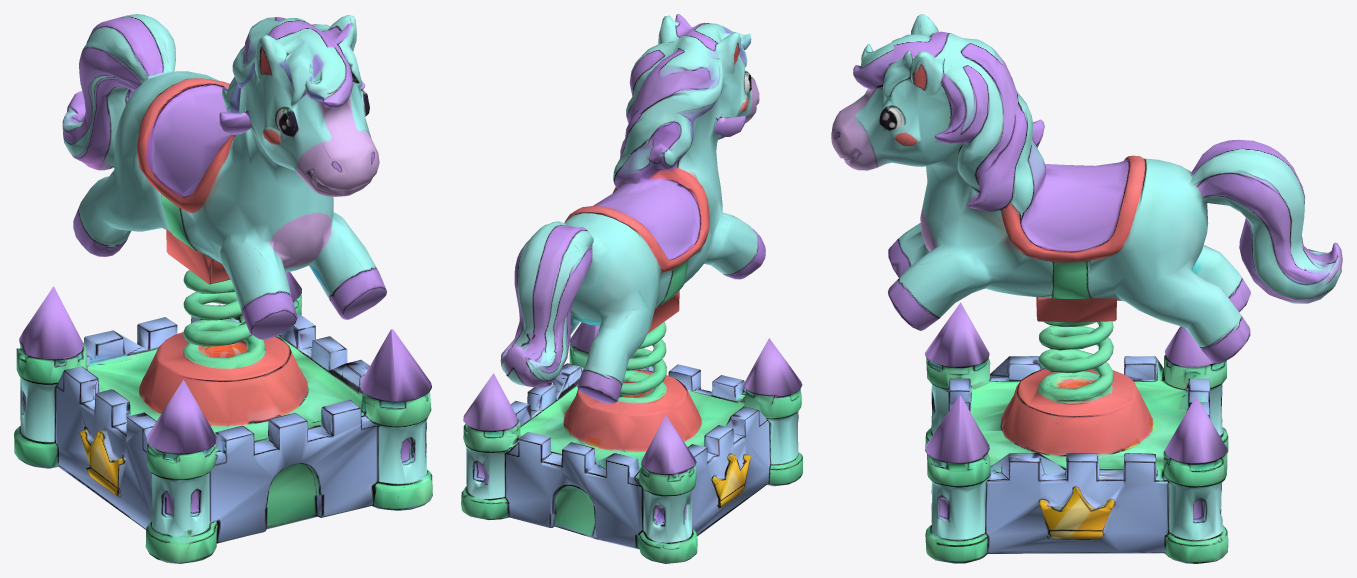
The model's file is static.glb.
3 renders of one model, left to right at view 1: azimuth 30°, elevation 25°; view 2: azimuth 150°, elevation 25°; view 3: azimuth 270°, elevation 25°, orthographic. The views are drawn at different scales.
Visible parts, largest first — view 1: Mesh_0; view 2: Mesh_0; view 3: Mesh_0.
Boxes of the visible parts, bbox=[...] form: Mesh_0: bbox=[14, 14, 432, 563]; Mesh_0: bbox=[461, 14, 802, 563]; Mesh_0: bbox=[831, 14, 1342, 563].
Bounding box in the file's own units: 1.08 × 1.9 × 1.87.
1 material, 1 textured.
